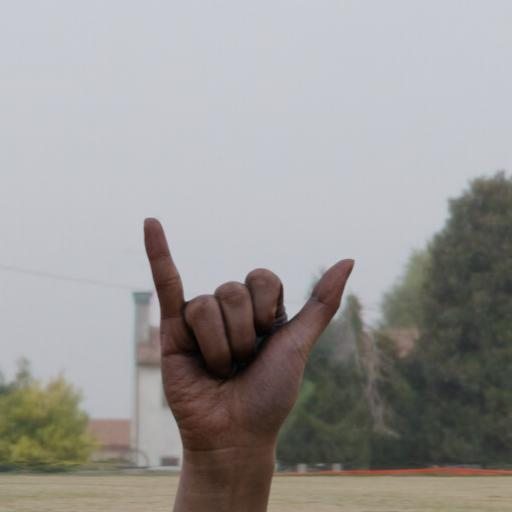Y: (124, 208, 368, 491)
